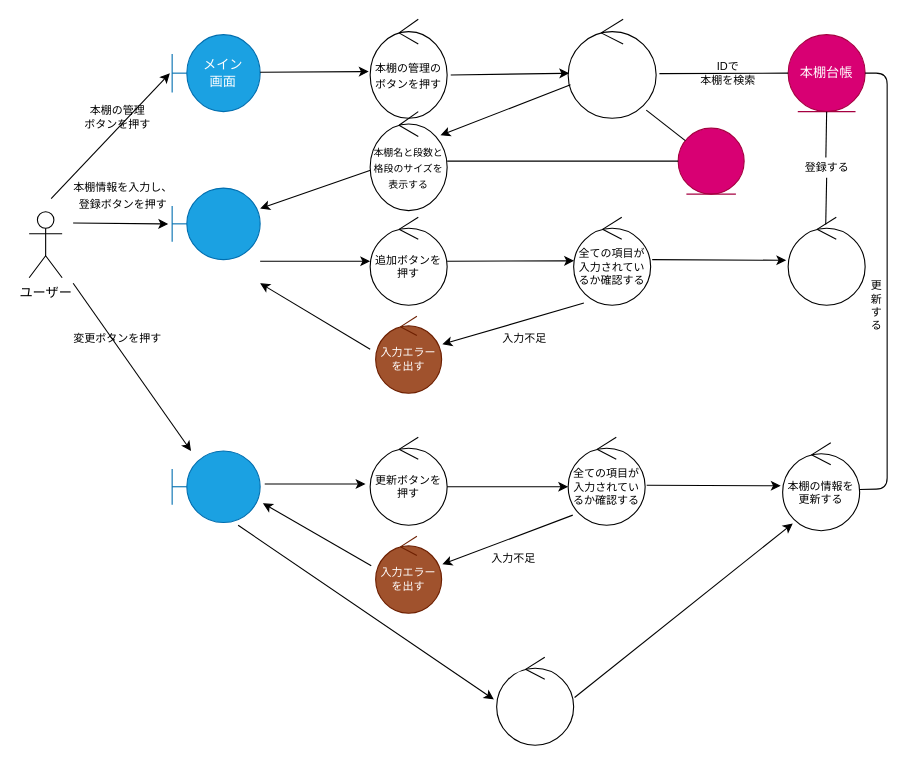
The diagram is 911 pixels wide and 765 high, and some of its shapes have lost their labels. The centre of each missing label's shape, as x and y in pixels:
"削除ボタンを押す" goes at point 535,700.
"変更画面" goes at point 215,486.
"本棚" goes at point 710,160.
"本棚を 取得する" goes at point 611,68.
"本棚を 登録する" goes at point 826,260.
"管理画面" goes at point 215,223.
